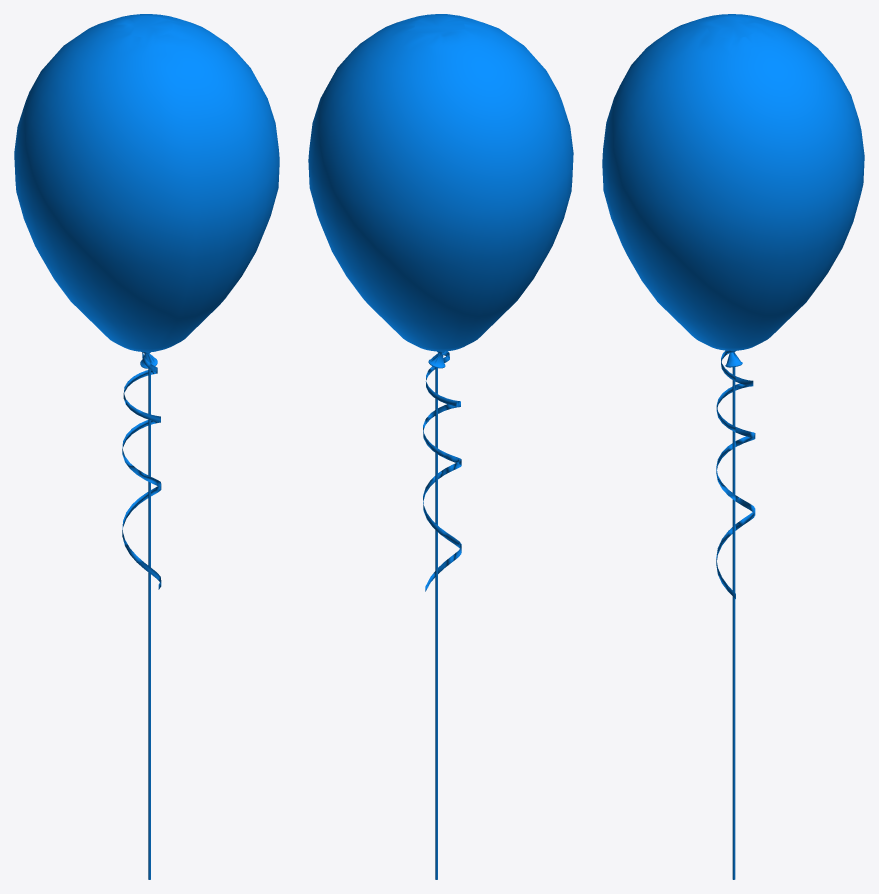
Rendered from Blue Ballon.fbx.
3 views of the same model, side by side, from view 1: azimuth 30°, elevation 25°; view 2: azimuth 150°, elevation 25°; view 3: azimuth 270°, elevation 25° (orthographic).
Parts seen in each view (by area): view 1: Object_12.002; view 2: Object_12.002; view 3: Object_12.002.
Boxes of the visible parts, x1,y1,x2,y2 form: Object_12.002: (14,14,279,879); Object_12.002: (308,14,573,879); Object_12.002: (602,14,864,879).
Bounding box in the file's own units: 200 × 707 × 198.
